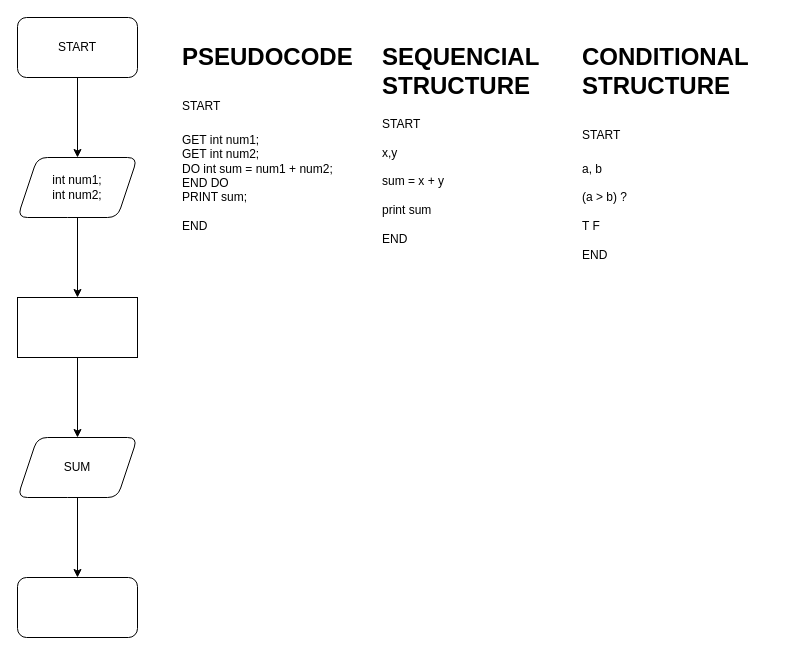
Some shapes in this 785 by 655 pixel diagram are drawn without their labels. The shapes that lost their labels are listed below. From the top down, each one's centre as x and y in pixels, then its label:
At (x=77, y=327): "Sum = num1 + num2".
At (x=77, y=607): "END".
